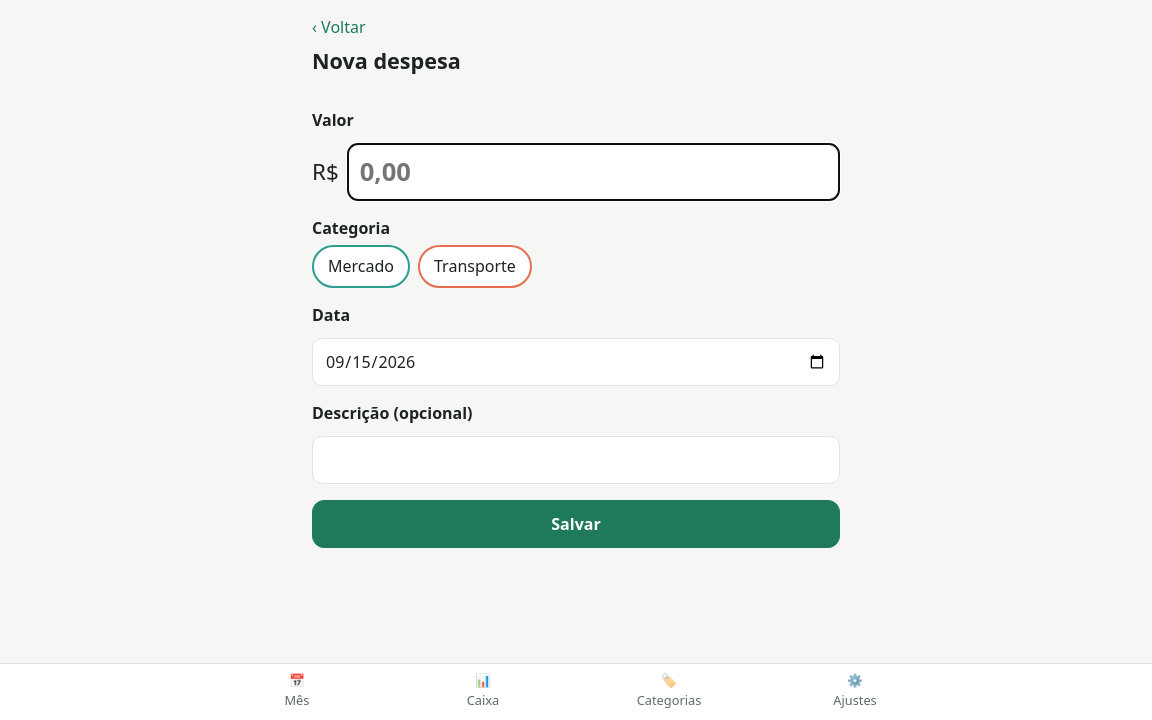
Test: despesa › valida valor e categoria
The image size is (1152, 720).
Click the button "Salvar": (576, 524) left=312, top=500, right=840, bottom=548
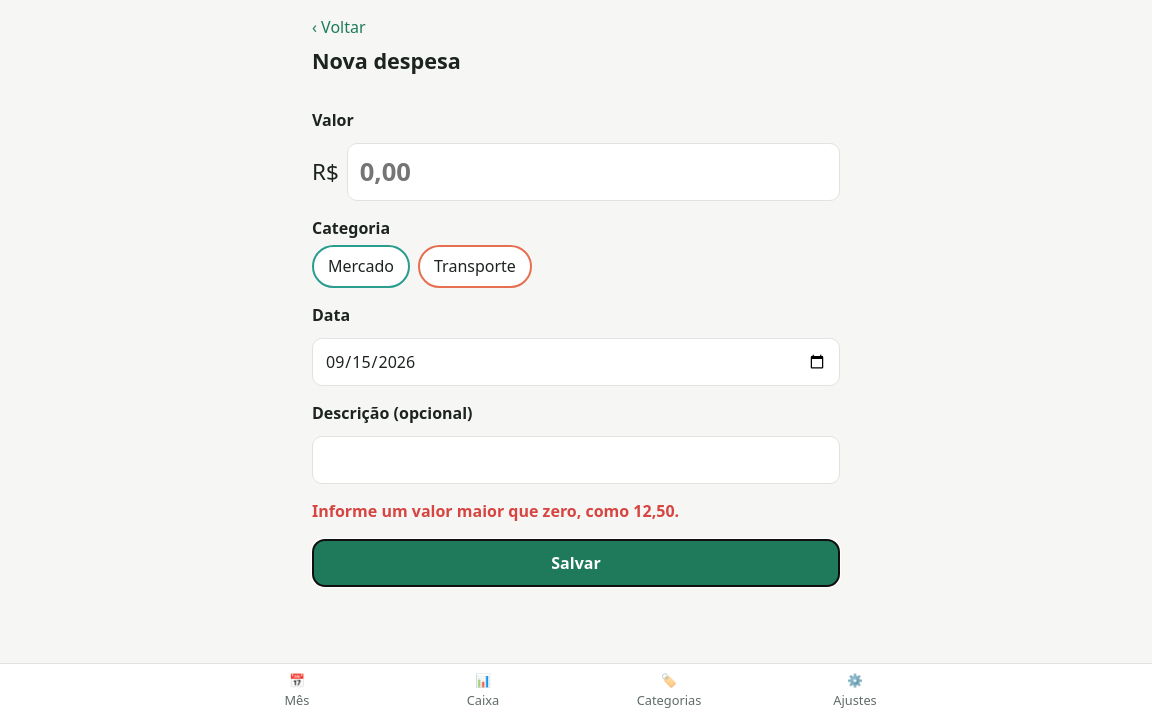
Expected: the message shows "Informe um valor", left=312, top=500, right=679, bottom=522
In the field labelled "Valor": (593, 172) left=347, top=143, right=840, bottom=201, type "-3"
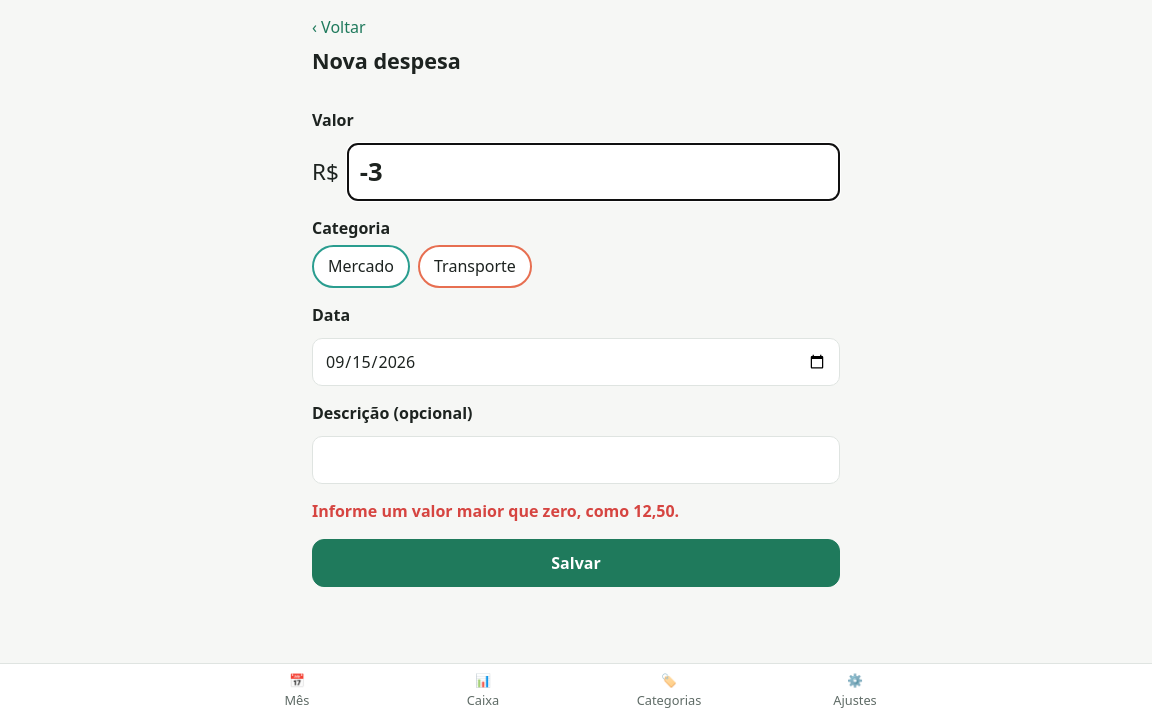
Click the button "Salvar": (576, 563) left=312, top=539, right=840, bottom=587
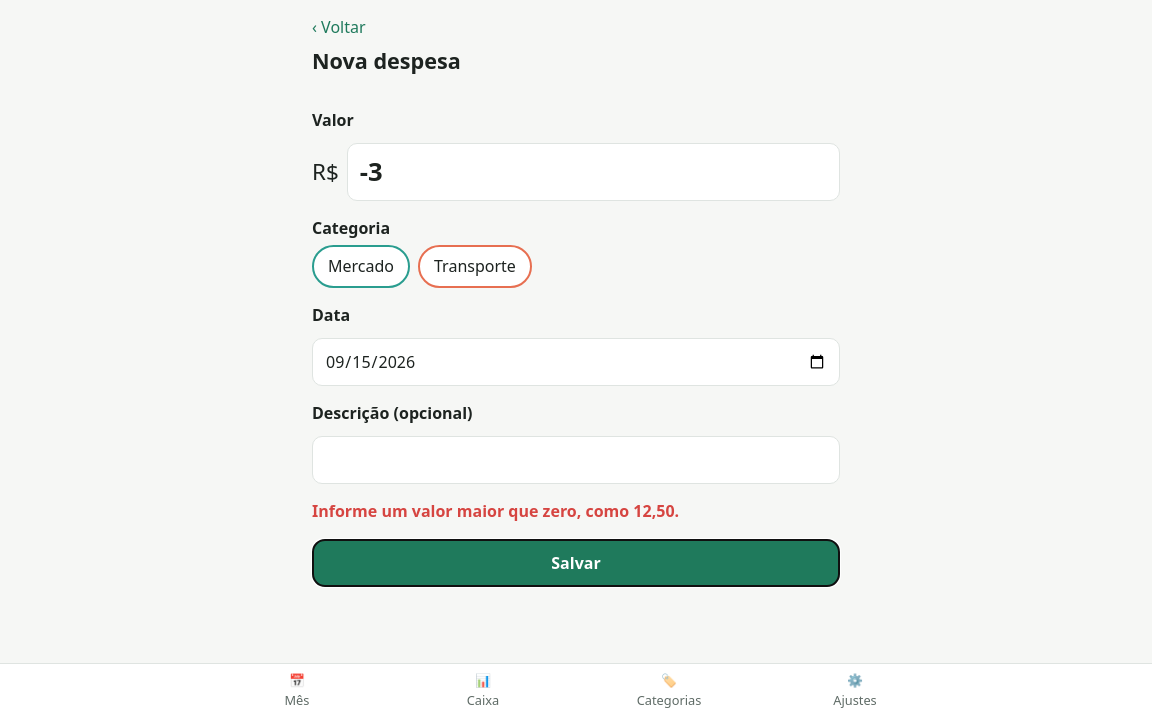
Expected: the message shows "Informe um valor", left=312, top=500, right=679, bottom=522
Replace the text in the field labelled "Valor" with "10": (593, 172) left=347, top=143, right=840, bottom=201
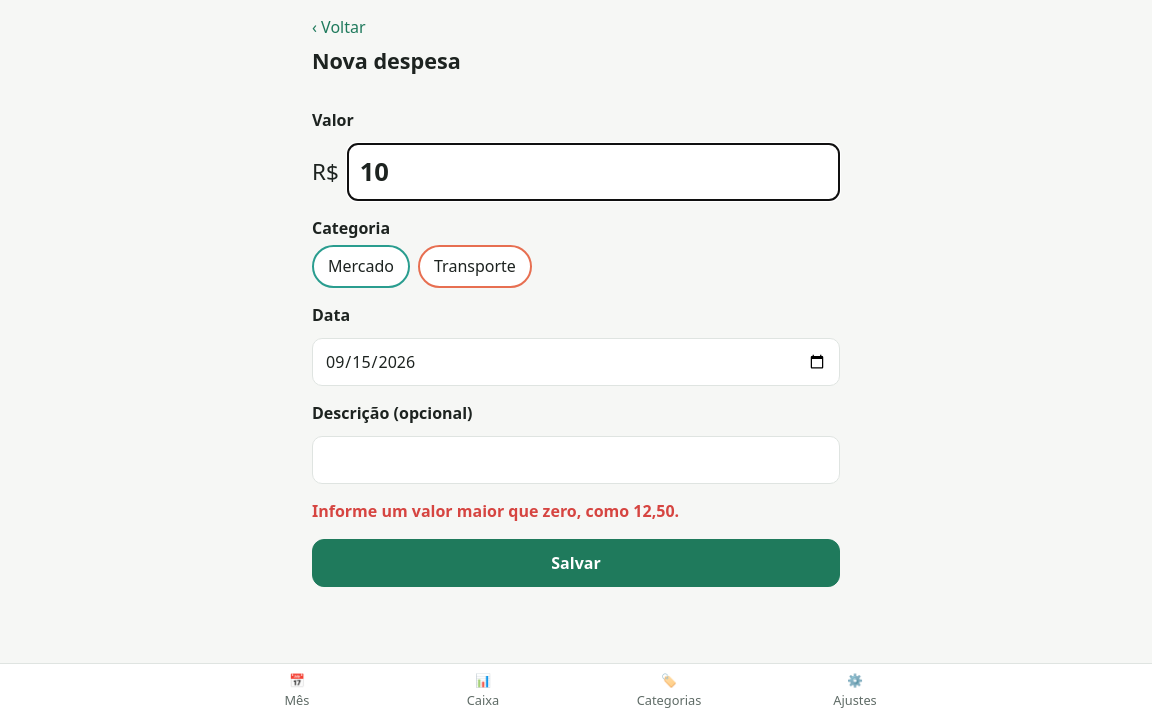
Click the button "Salvar": (576, 563) left=312, top=539, right=840, bottom=587
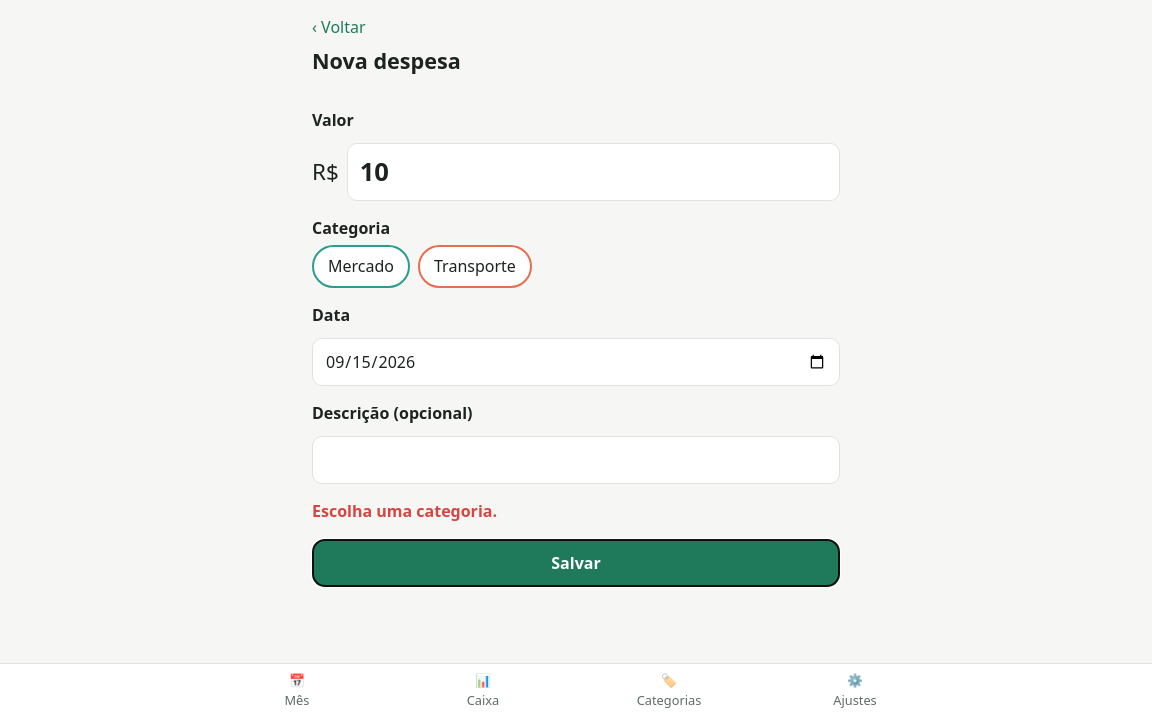
Expected: the message shows "Escolha uma categoria", left=312, top=500, right=497, bottom=522
